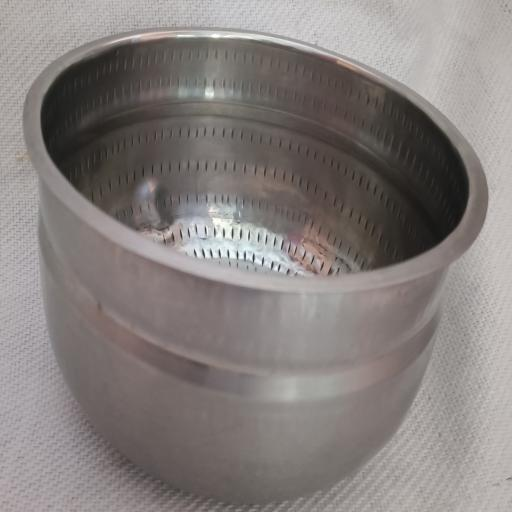vessel: (23, 28, 488, 502)
